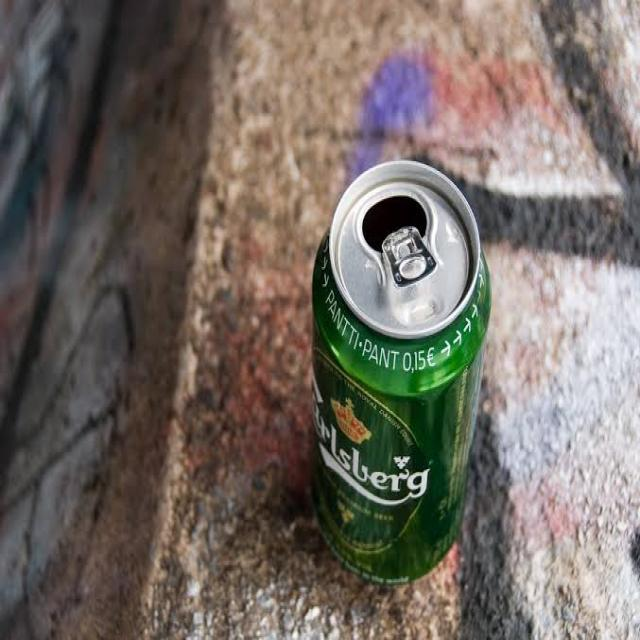can: (298, 129, 477, 613)
